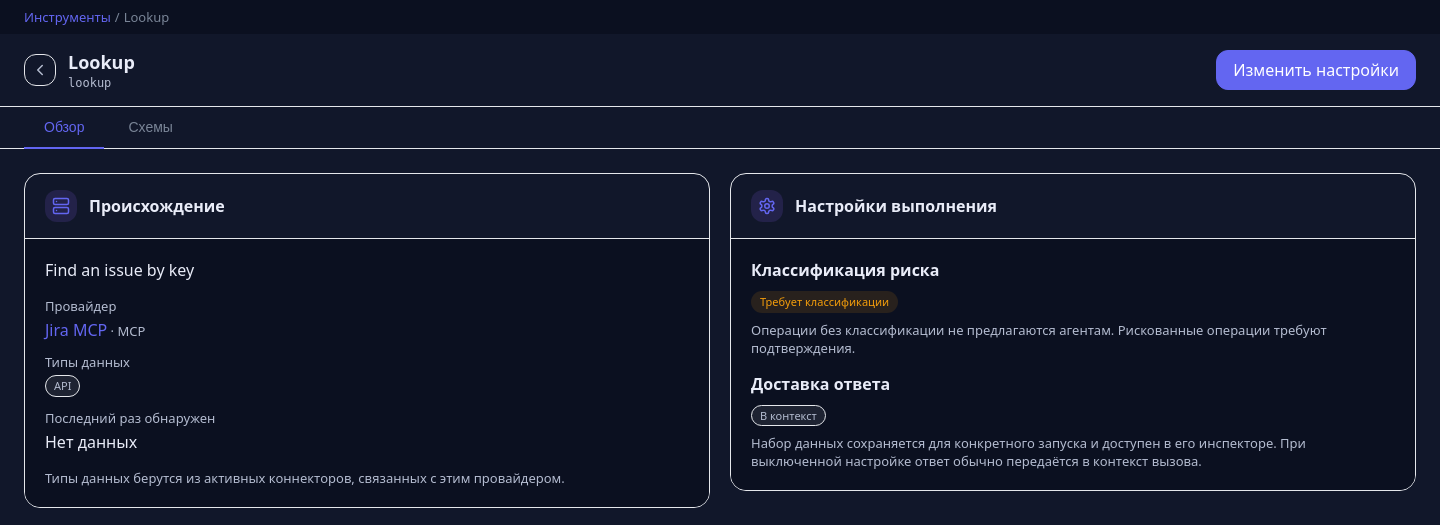
tool settings › saves the MCP risk classification independently of delivery
Step 1. Click the button "Изменить настройки" → (1316, 70), box left=1216, top=50, right=1416, bottom=90
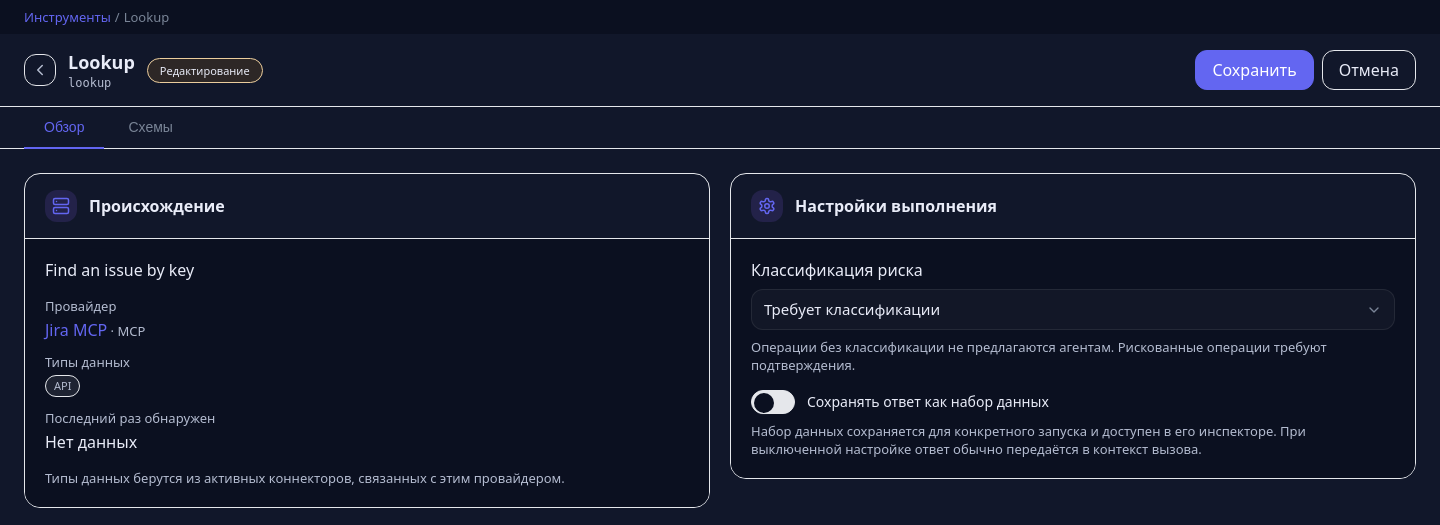
Step 2. Click the dropdown named "Классификация риска" → (852, 309), box left=751, top=289, right=1395, bottom=330
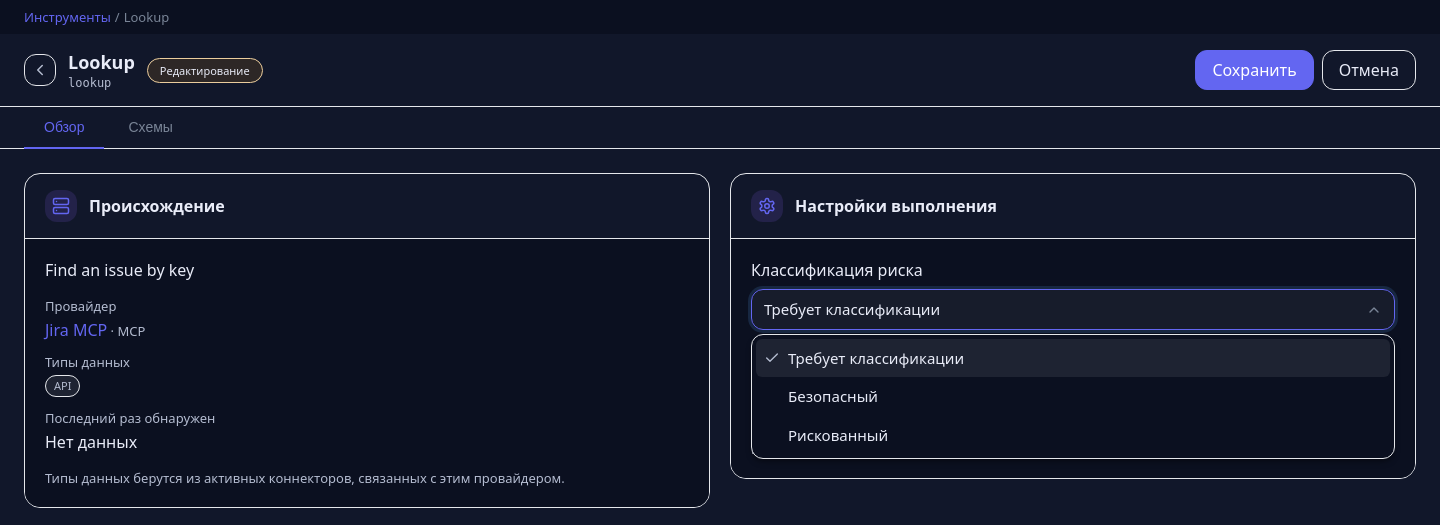
Step 3. Click the option "Рискованный" → (838, 435), box left=788, top=425, right=888, bottom=445
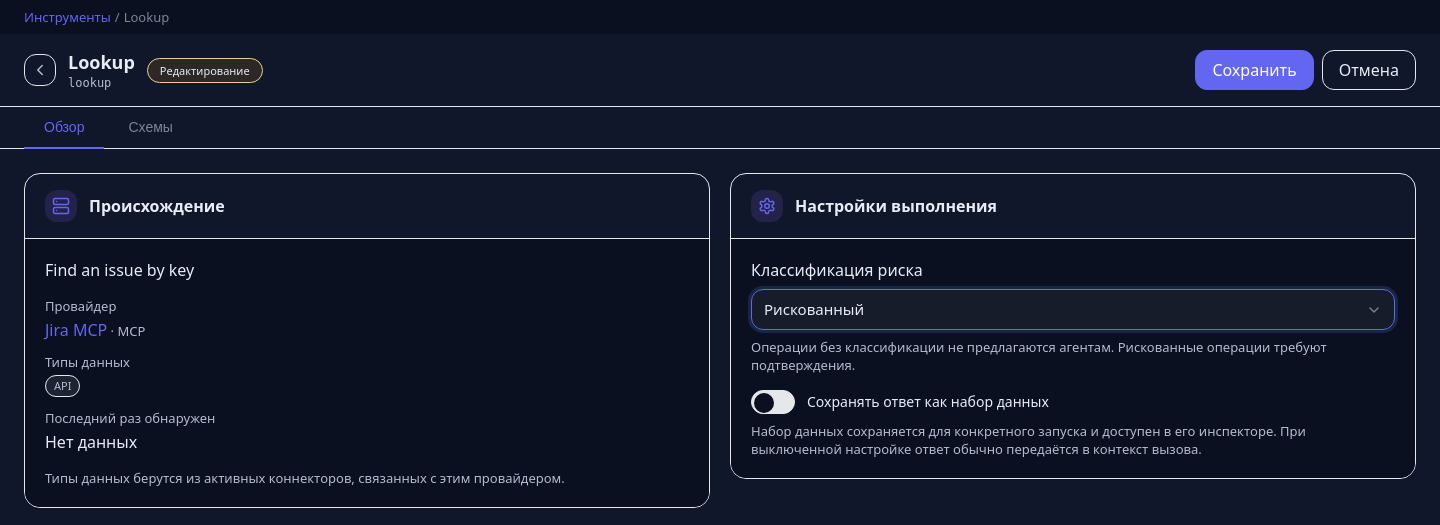
Step 4. Click the button "Сохранить" → (1255, 70), box left=1195, top=50, right=1314, bottom=90
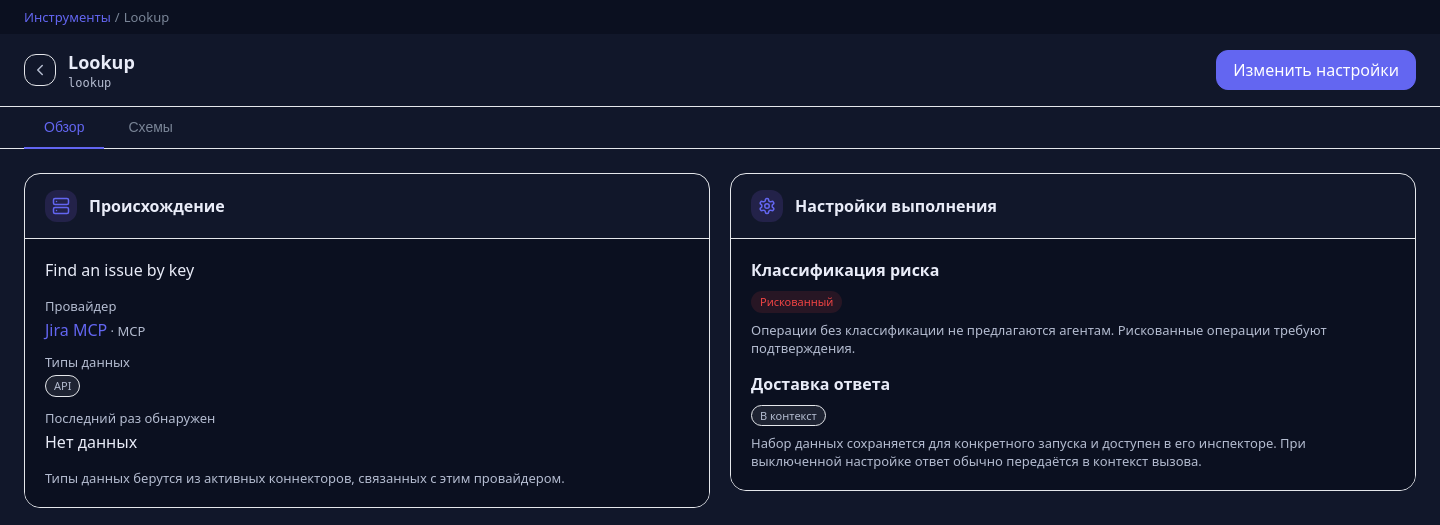
Result: the text "Рискованный" is shown at left=751, top=291, right=842, bottom=313
Result: the button "Изменить настройки" is shown at left=1216, top=50, right=1416, bottom=90
